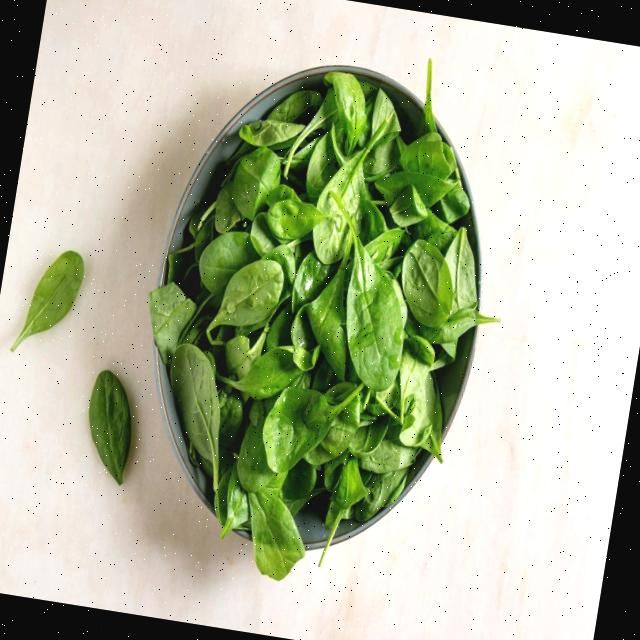spinach: (75, 3, 572, 620)
